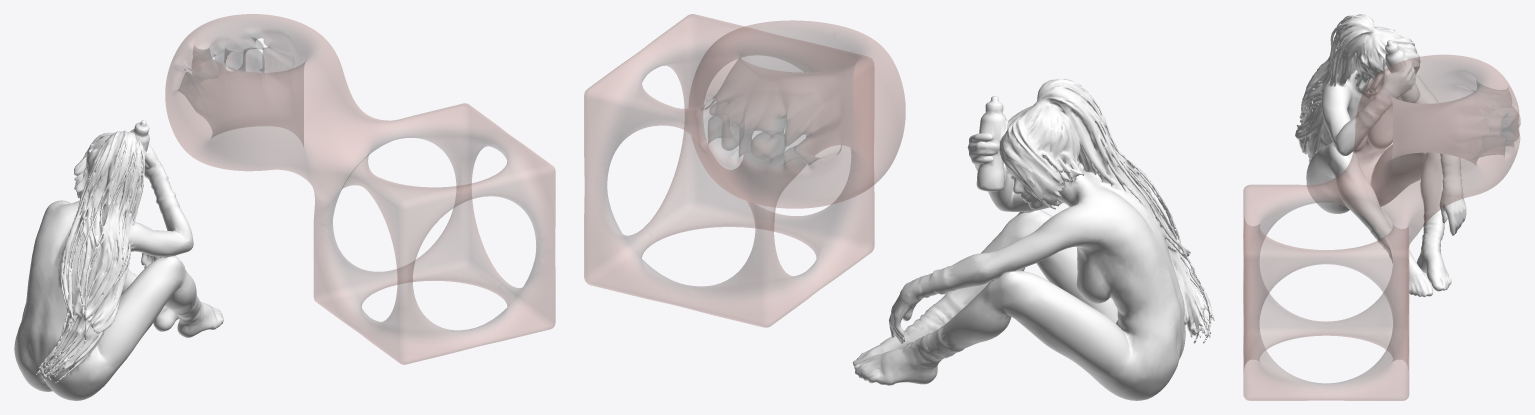
Rendered from fuck.glb.
3 views of the same model, side by side, from view 1: azimuth 30°, elevation 25°; view 2: azimuth 150°, elevation 25°; view 3: azimuth 270°, elevation 25° (orthographic). The views are drawn at different scales.
Visible parts, largest first — view 1: Area (1), sport; view 2: Area (1), sport; view 3: Area (1), sport.
Part boxes in pixels (x1=…): Area (1): x1=165, y1=14, x2=555, y2=364; sport: x1=14, y1=120, x2=223, y2=400; Area (1): x1=584, y1=14, x2=905, y2=327; sport: x1=853, y1=79, x2=1214, y2=400; Area (1): x1=1243, y1=55, x2=1520, y2=400; sport: x1=1295, y1=14, x2=1466, y2=297.
Size of the model in its own units: 122 by 64.02 by 66.84.
Materials: 2 (2 with a texture image).
